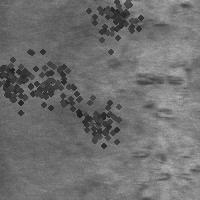rolled-in_scale: (128, 66, 197, 199), (1, 36, 95, 130), (67, 89, 125, 147), (81, 0, 147, 45), (120, 1, 192, 34), (0, 49, 37, 107)
